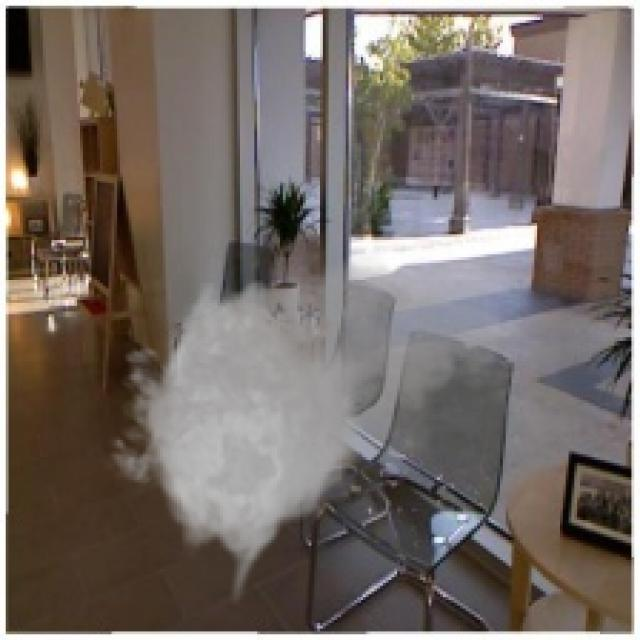smoke: (97, 243, 509, 608)
